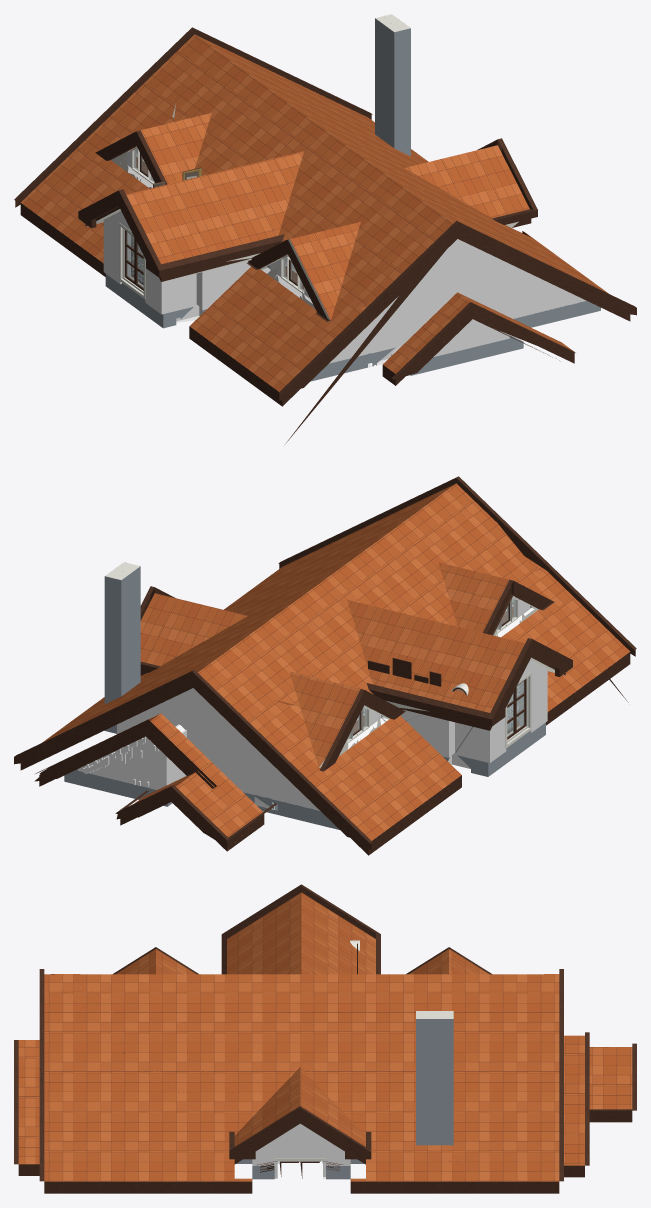
Rendered from level-3.glb.
3 views of the same model, one above another, from view 1: azimuth 30°, elevation 25°; view 2: azimuth 150°, elevation 25°; view 3: azimuth 270°, elevation 25° (orthographic).
Parts seen in each view (by area): view 1: F3 | ÇATII, F3 | ÇATI ALIN, F3 | Attic partition core, F3 | KAT 3$DUVAR, F3 | ek dalgalar, F3 | PENCERE_KAPI$CAM, F3 | PENCERE_KAPI$ÇEPHE ÇERÇECE, F3 | PENCERE_KAPI$ÇERÇEVE; view 2: F3 | ÇATII, F3 | ÇATI ALIN, F3 | Attic partition core, F3 | ek dalgalar, F3 | KAT 3$DUVAR, F3 | PENCERE_KAPI$CAM, F3 | PENCERE_KAPI$ÇEPHE ÇERÇECE, F3 | PENCERE_KAPI$ÇERÇEVE; view 3: F3 | ÇATII, F3 | ÇATI ALIN, F3 | ek dalgalar, F3 | Attic partition core, F3 | KAT 3$DUVAR.
Part boxes in pixels (bbox=[...]): F3 | ÇATII: bbox=[20, 34, 630, 442]; F3 | ÇATI ALIN: bbox=[14, 27, 636, 400]; F3 | Attic partition core: bbox=[103, 150, 586, 363]; F3 | KAT 3$DUVAR: bbox=[105, 163, 600, 381]; F3 | ek dalgalar: bbox=[375, 14, 410, 156]; F3 | PENCERE_KAPI$CAM: bbox=[126, 148, 303, 291]; F3 | PENCERE_KAPI$ÇEPHE ÇERÇECE: bbox=[122, 147, 304, 294]; F3 | PENCERE_KAPI$ÇERÇEVE: bbox=[124, 153, 297, 290]; F3 | ÇATII: bbox=[20, 483, 630, 855]; F3 | ÇATI ALIN: bbox=[14, 476, 636, 849]; F3 | Attic partition core: bbox=[77, 598, 547, 811]; F3 | ek dalgalar: bbox=[104, 562, 140, 733]; F3 | KAT 3$DUVAR: bbox=[64, 606, 545, 829]; F3 | PENCERE_KAPI$CAM: bbox=[347, 598, 524, 740]; F3 | PENCERE_KAPI$ÇEPHE ÇERÇECE: bbox=[347, 596, 528, 743]; F3 | PENCERE_KAPI$ÇERÇEVE: bbox=[353, 602, 526, 739]; F3 | ÇATII: bbox=[18, 892, 632, 1193]; F3 | ÇATI ALIN: bbox=[14, 884, 636, 1181]; F3 | ek dalgalar: bbox=[416, 1011, 453, 1145]; F3 | Attic partition core: bbox=[252, 1123, 350, 1165]; F3 | KAT 3$DUVAR: bbox=[236, 1159, 364, 1179].
Size of the model in its own units: 11.56 by 5.85 by 16.46.
59 materials, 15 textured.
